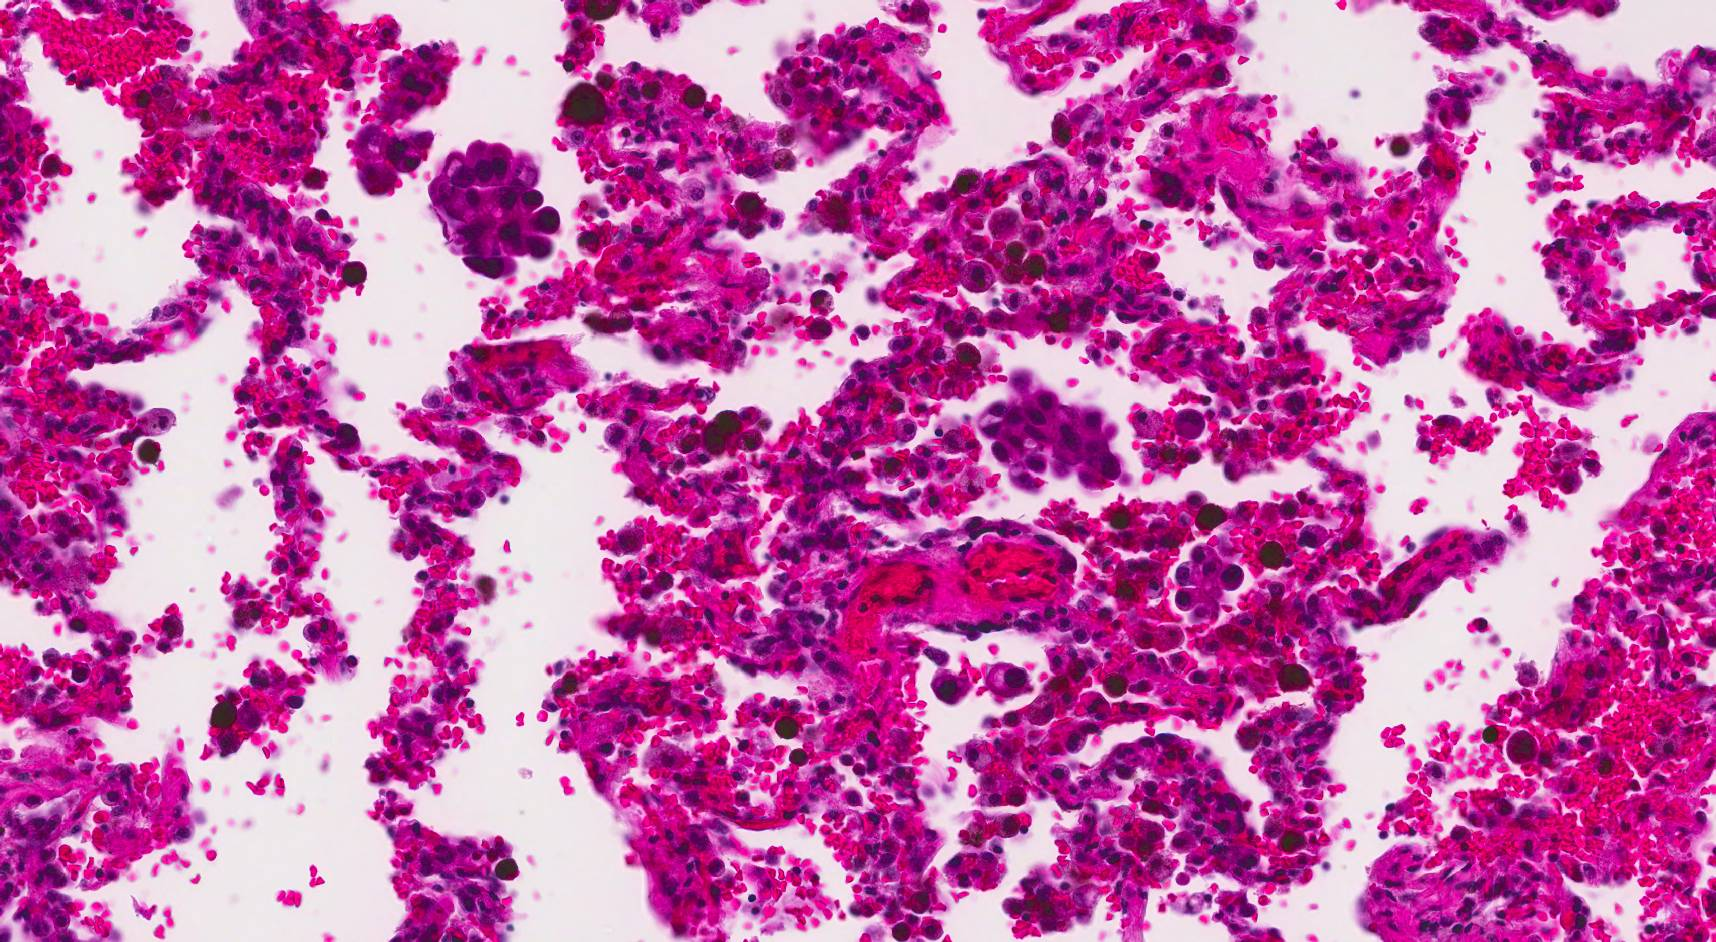stas: (430, 138, 560, 279), (978, 370, 1125, 487), (1172, 543, 1246, 615)
